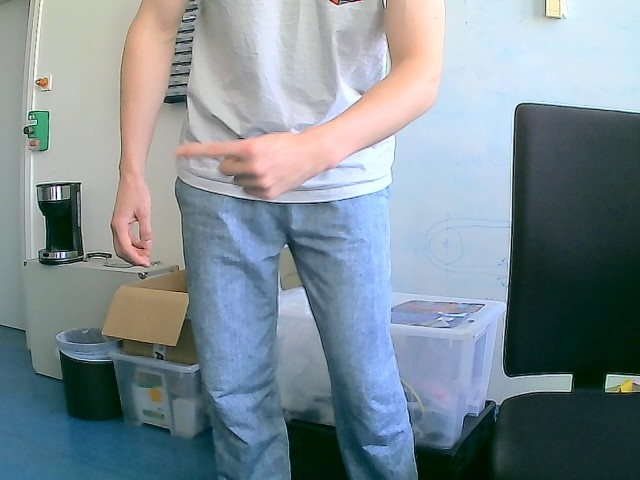no_gesture: (108, 171, 161, 269)
right: (174, 129, 334, 203)
